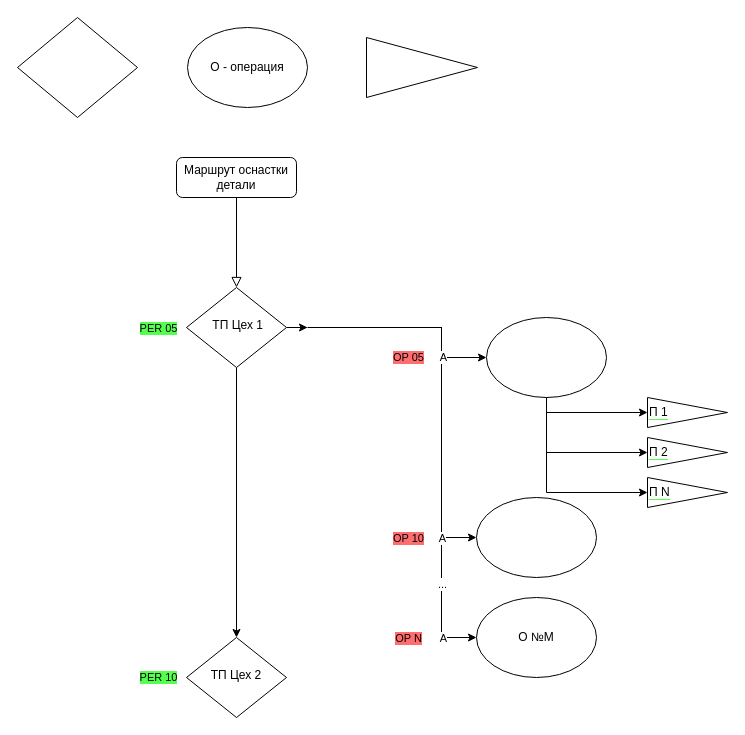
Some shapes in this 745 by 735 pixel diagram are drawn without their labels. The shapes that lost their labels are listed below. From the top down, each one's box as (x1, y1, x2, y2) in pixels, then its label:
(16, 16, 138, 118): ТП - тех. процесс
(366, 36, 478, 98): П - переход
(486, 316, 606, 398): О №1
(476, 496, 596, 578): О №2
